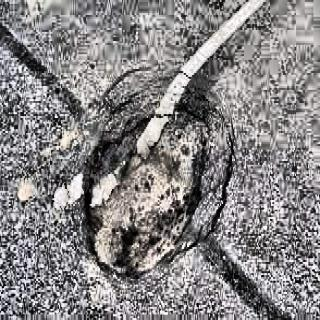crack: (72, 72, 239, 280)
